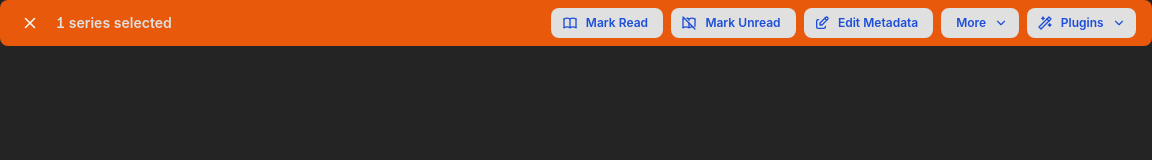
Test: BulkSelectionToolbar › plugin actions › should show plugin menu items when Plugins button is clicked
This screenshot has width=1152, height=160.
// Click the Plugins button to open the menu
Click the button with aria-label "plugin actions": {"x": 1081, "y": 23} x1=1026 y1=8 x2=1136 y2=38
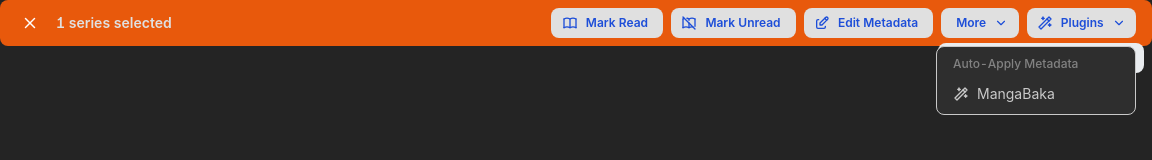
Expected: the text "MangaBaka" is shown, x1=977 y1=85 x2=1055 y2=102
